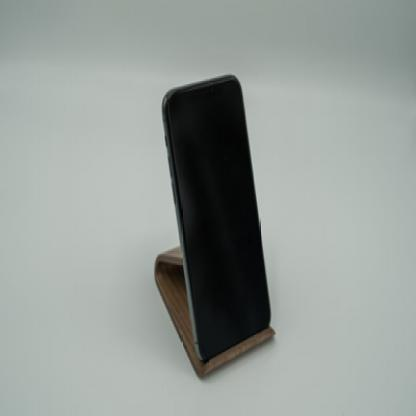cell-phone: (156, 63, 296, 370)
